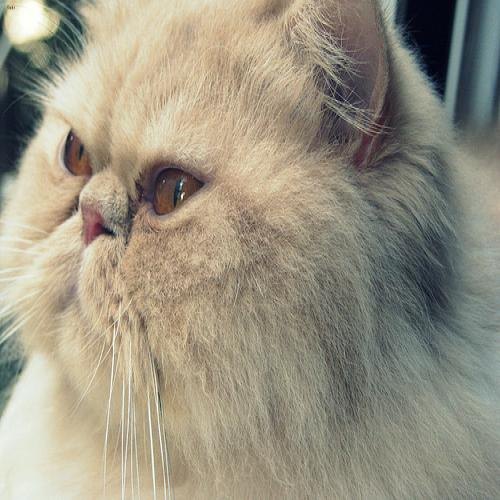persian: (8, 1, 402, 444)
